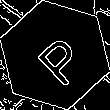P_NW: (24, 24, 86, 86)
